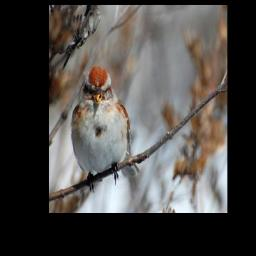Sparrow: (70, 63, 142, 197)
